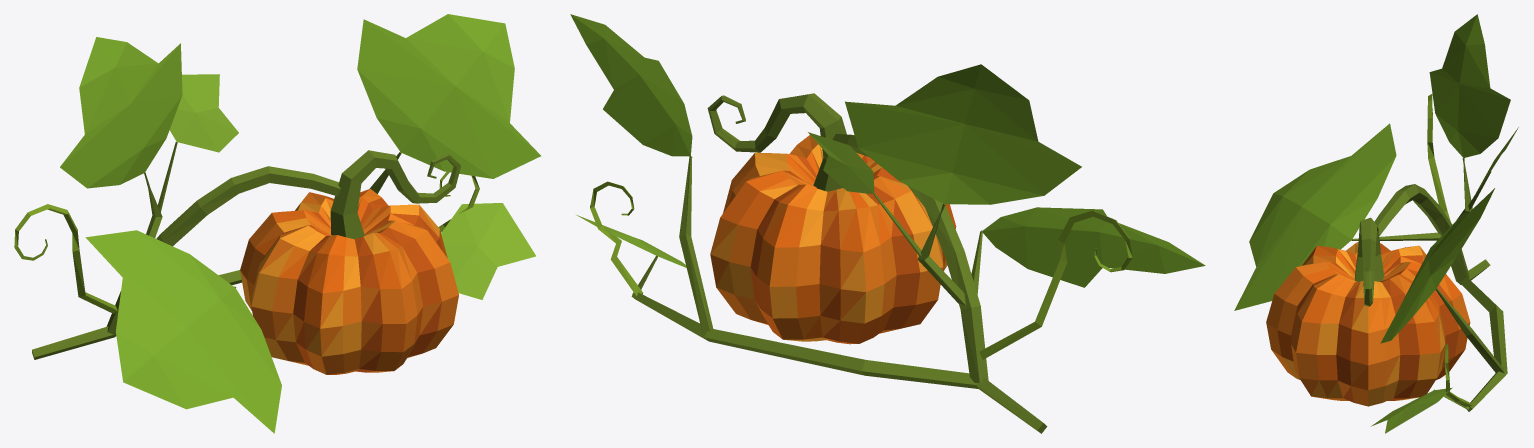
File: Pumpkin Plant.glb
The picture shows the model from 3 angles, left to right: view 1: azimuth 30°, elevation 25°; view 2: azimuth 150°, elevation 25°; view 3: azimuth 270°, elevation 25°; orthographic projection. The views are drawn at different scales.
Parts seen in each view (by area): view 1: Pumpkin Plant; view 2: Pumpkin Plant; view 3: Pumpkin Plant.
Boxes of the visible parts, <box> form: Pumpkin Plant: <box>14,14,540,433</box>; Pumpkin Plant: <box>570,14,1205,433</box>; Pumpkin Plant: <box>1234,14,1518,433</box>.
Size of the model in its own units: 0.954 by 0.5809 by 0.5245.
